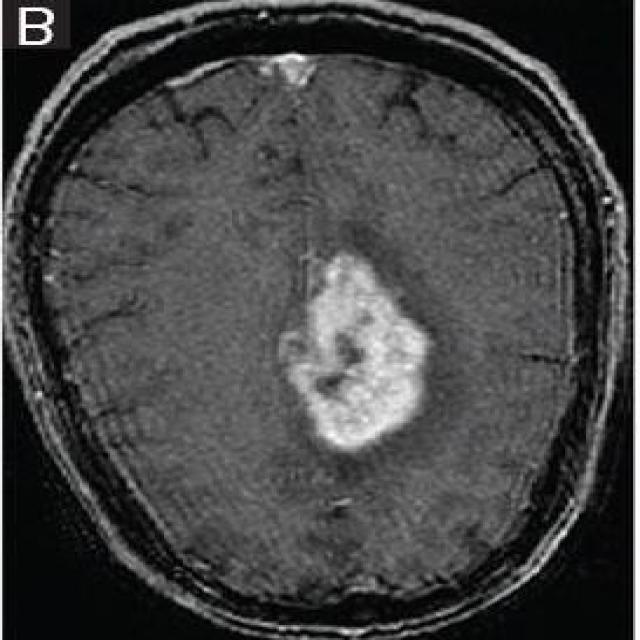Tumor-Cell: (266, 244, 432, 464)
